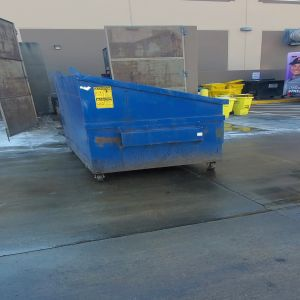Dumpster: (55, 80, 203, 184)
